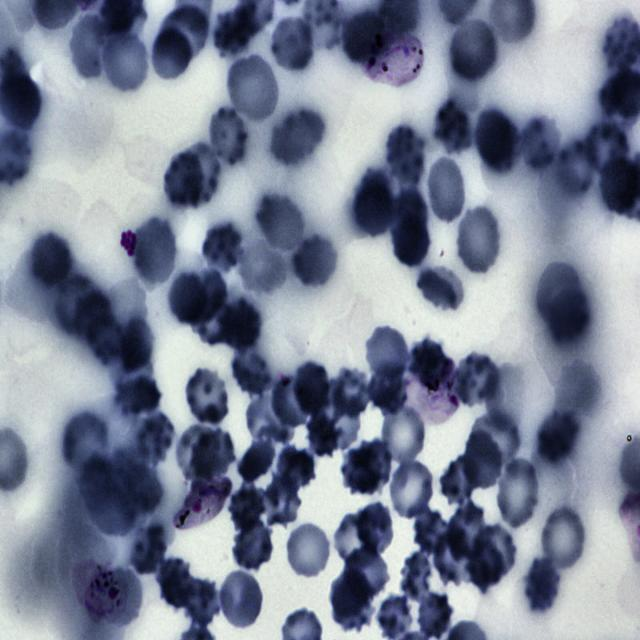red blood cell: (227, 54, 280, 124), (494, 456, 542, 532), (454, 203, 503, 277), (378, 399, 427, 469), (447, 16, 497, 83), (132, 216, 179, 287), (101, 28, 150, 96), (386, 456, 437, 521), (352, 168, 396, 239), (283, 520, 334, 581), (217, 565, 264, 631), (182, 365, 232, 427), (426, 152, 467, 226), (269, 109, 323, 164), (256, 194, 307, 251), (474, 106, 518, 172), (328, 570, 374, 633), (159, 4, 208, 63), (269, 14, 316, 75), (536, 262, 583, 323), (292, 230, 338, 291), (29, 230, 74, 292), (316, 390, 361, 452), (247, 391, 298, 445), (207, 105, 250, 169), (181, 140, 222, 207), (453, 353, 501, 410), (181, 268, 228, 326), (364, 324, 410, 383), (63, 411, 109, 470), (470, 410, 520, 464), (71, 14, 113, 78), (433, 529, 481, 585), (386, 120, 427, 185), (542, 507, 584, 570), (174, 424, 218, 484), (343, 546, 390, 602), (584, 122, 630, 177), (334, 510, 378, 566), (190, 428, 236, 480), (230, 518, 274, 572), (338, 443, 382, 497), (554, 138, 596, 194), (201, 220, 244, 274), (392, 212, 432, 270), (446, 502, 486, 560), (464, 427, 502, 488), (434, 100, 475, 156), (219, 299, 262, 352), (213, 7, 256, 60), (330, 365, 372, 419), (546, 289, 590, 340), (154, 22, 193, 79), (164, 152, 202, 210), (155, 556, 195, 611), (520, 115, 560, 170), (270, 374, 310, 429), (134, 409, 174, 464), (524, 555, 560, 616), (439, 456, 482, 507), (474, 524, 515, 577), (416, 267, 464, 312), (354, 439, 393, 494), (342, 11, 384, 62), (535, 412, 577, 462), (262, 477, 304, 526), (295, 362, 334, 414), (466, 541, 504, 594), (357, 502, 396, 553), (230, 351, 273, 397), (130, 525, 168, 575), (168, 274, 206, 324), (120, 316, 153, 373), (368, 365, 406, 414), (414, 506, 451, 556), (228, 484, 266, 532), (276, 444, 316, 489), (306, 408, 342, 458), (114, 376, 161, 414), (400, 550, 432, 604), (183, 578, 220, 624), (237, 440, 276, 482), (417, 593, 452, 638), (377, 594, 412, 639), (408, 338, 445, 376)
trophozoite: (356, 30, 424, 86), (402, 358, 459, 424), (172, 474, 233, 530), (71, 562, 126, 623)
